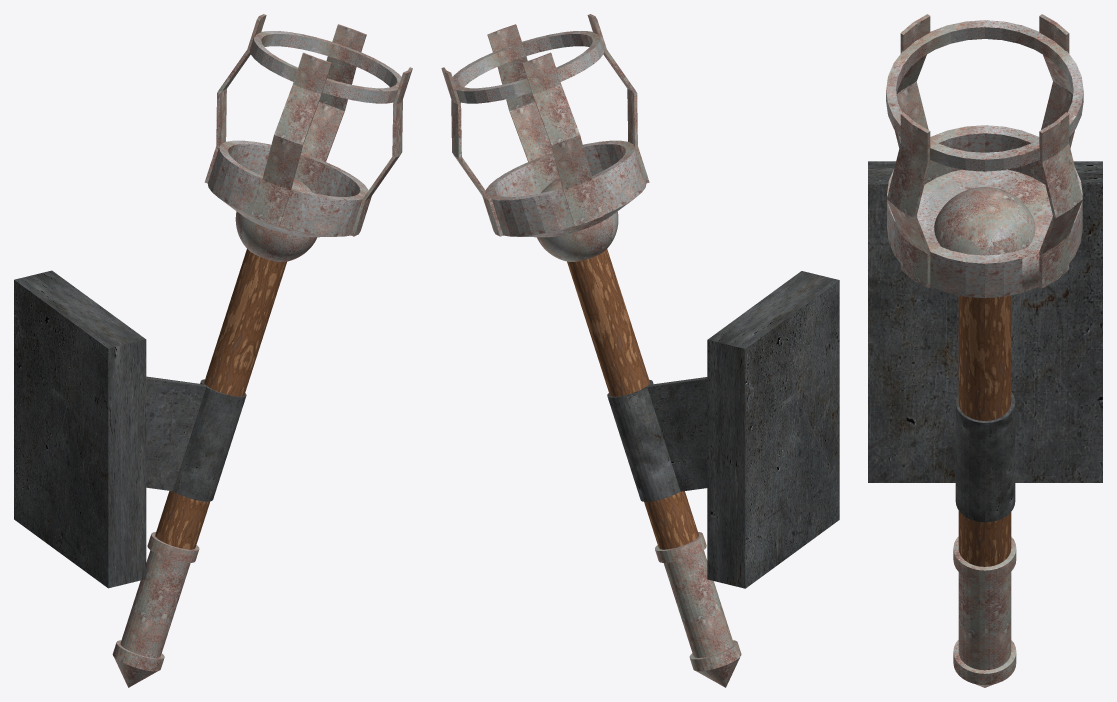
Rendered from Bakla.fbx.
3 views of the same model, side by side, from view 1: azimuth 30°, elevation 25°; view 2: azimuth 150°, elevation 25°; view 3: azimuth 270°, elevation 25° (orthographic). The views are drawn at different scales.
Visible parts, largest first — view 1: Cube; view 2: Cube; view 3: Cube.
Part boxes in pixels (<box>): Cube: <box>14,14,412,687</box>; Cube: <box>441,14,839,687</box>; Cube: <box>868,14,1102,687</box>.
Bounding box in the file's own units: 635 × 1122 × 312.
